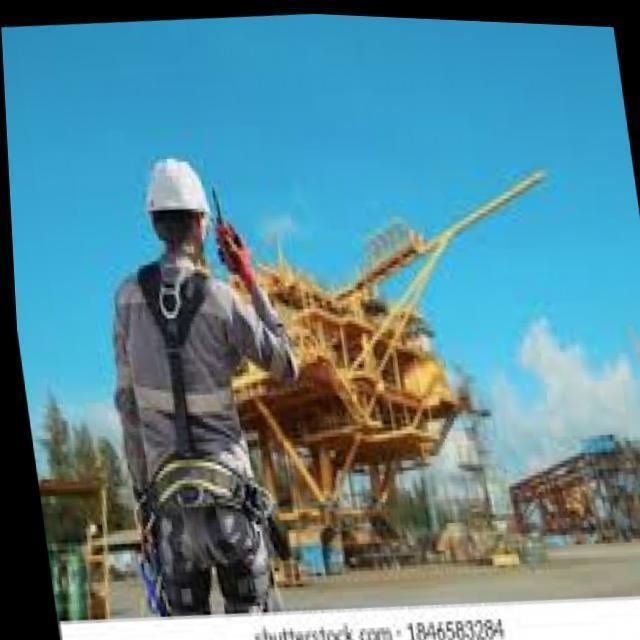Arnes_seguridad: (115, 256, 269, 563)
